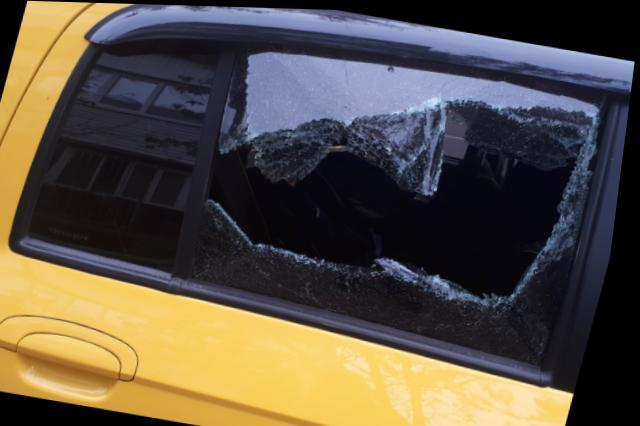glass shatter: (194, 45, 613, 363)
